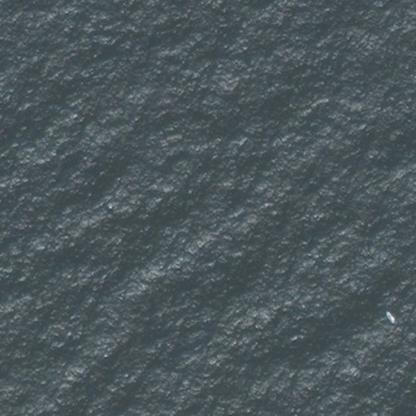ship: (382, 307, 399, 327)
